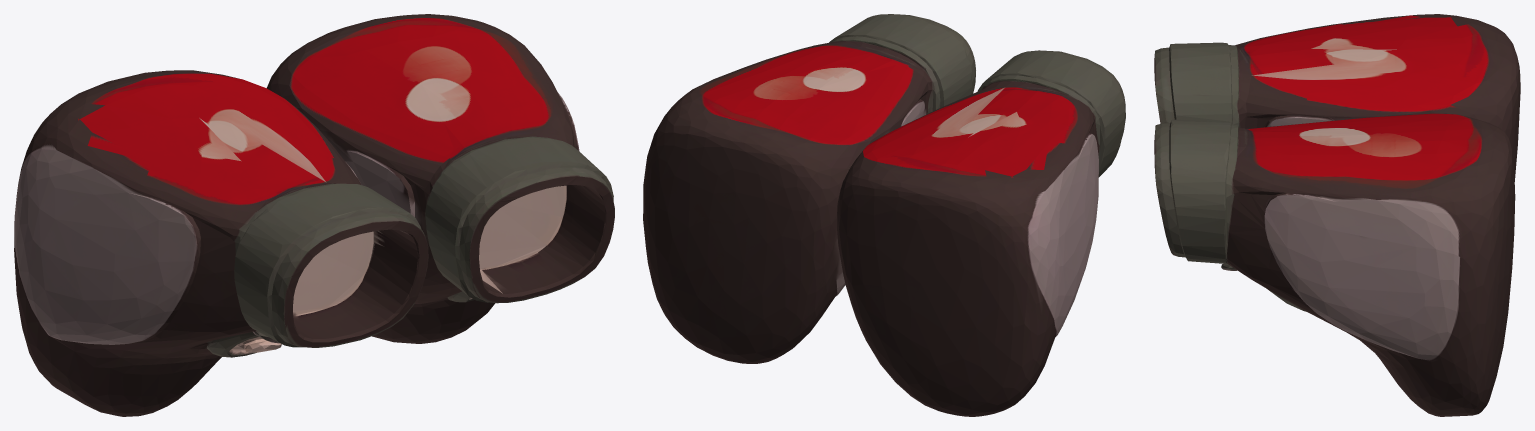
Rendered from focus_mitts_pair.glb.
3 renders of one model, left to right at view 1: azimuth 30°, elevation 25°; view 2: azimuth 150°, elevation 25°; view 3: azimuth 270°, elevation 25°, orthographic. The views are drawn at different scales.
Parts seen in each view (by area): view 1: focus_mitts_pair; view 2: focus_mitts_pair; view 3: focus_mitts_pair.
Boxes of the visible parts, x1=… form: focus_mitts_pair: x1=14, y1=14, x2=614, y2=416; focus_mitts_pair: x1=643, y1=14, x2=1125, y2=416; focus_mitts_pair: x1=1154, y1=14, x2=1520, y2=416.
Size of the model in its own units: 0.5 by 0.2923 by 0.378.
Materials: 1 (1 with a texture image).
